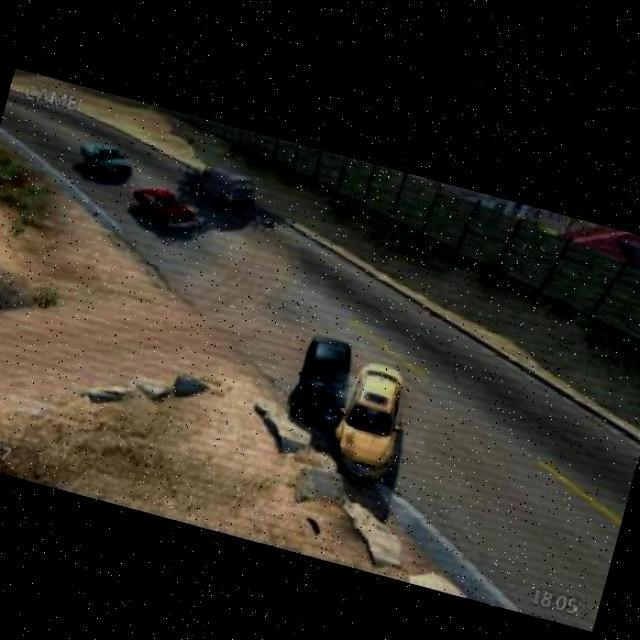accident: (280, 359, 412, 471)
